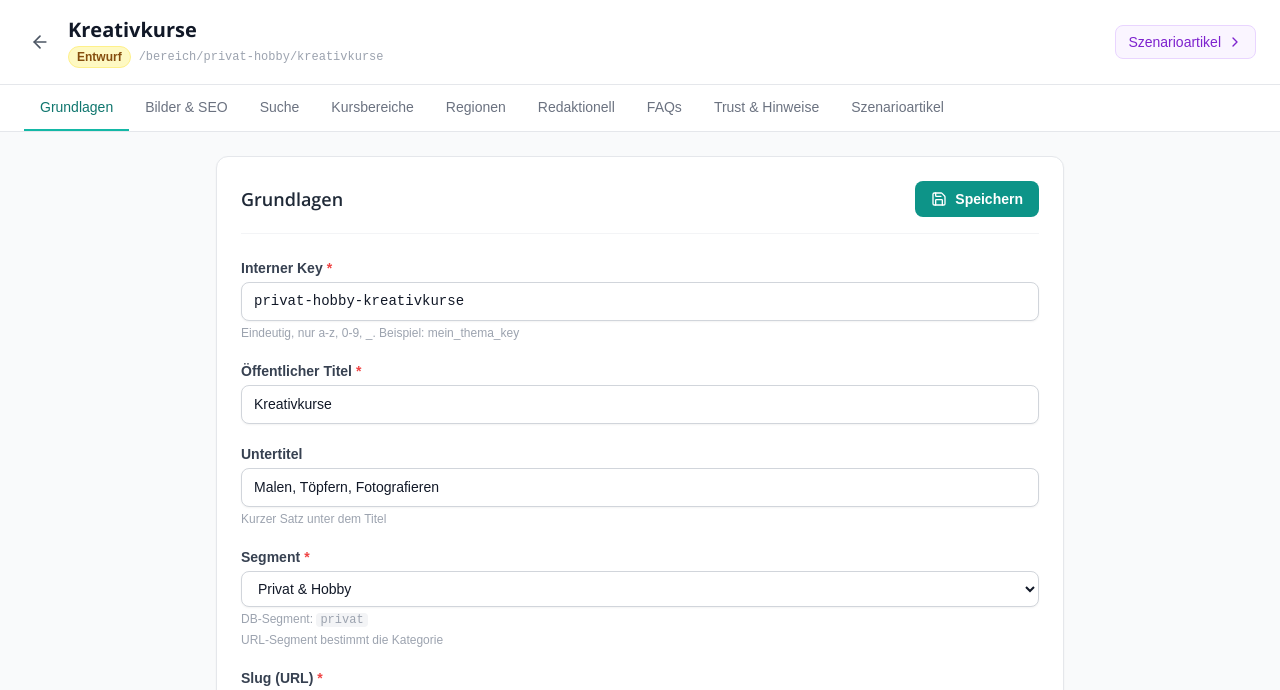
section_titles: alle geforderten Überschriften sind bearbeitbar › zeigt den gespeicherten Wert von specialties_heading
This screenshot has width=1280, height=690.
Click the button "Trust & Hinweise". click: point(767, 108)
box: [698,85,835,131]
(page scrolled)
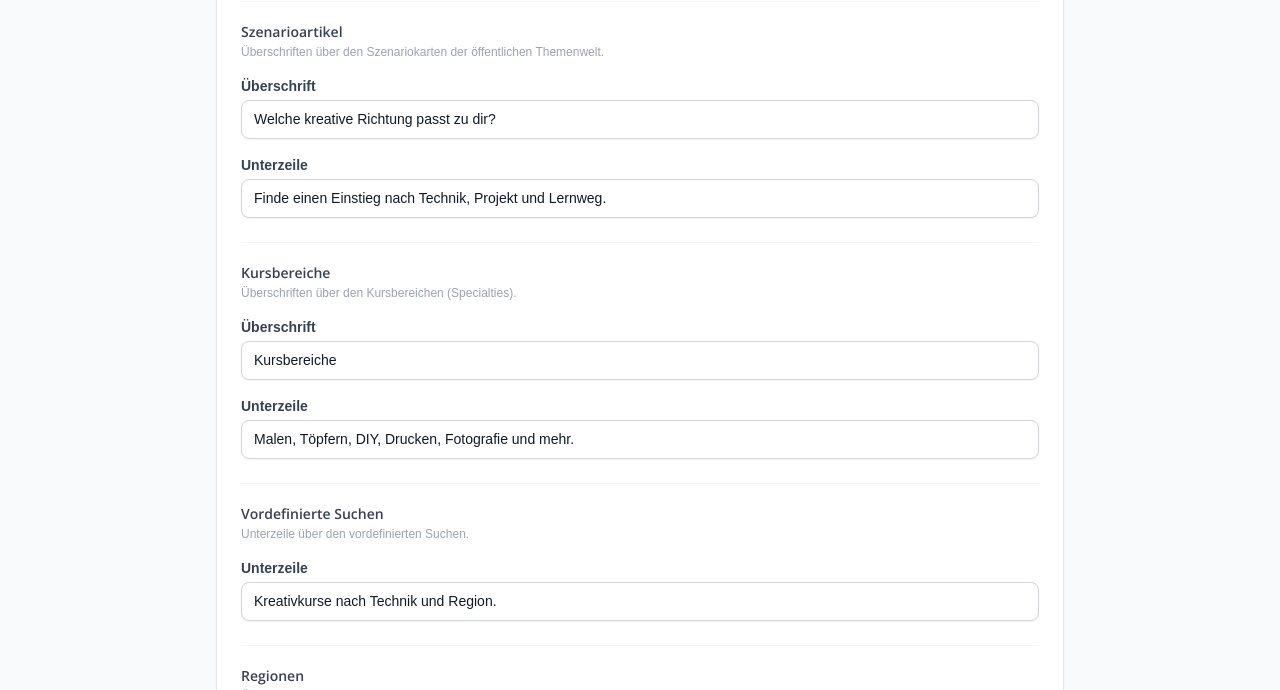
Now the 3rd field holds "Kursbereiche", box [241,341,1039,380]
